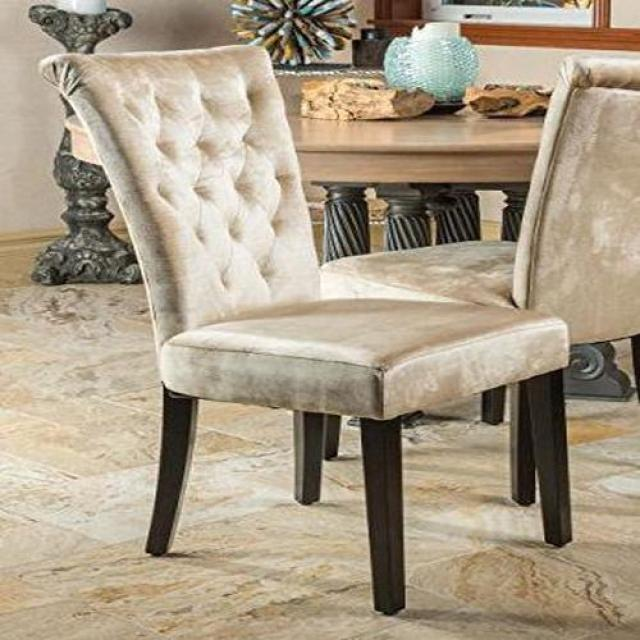chair: (38, 46, 573, 617)
